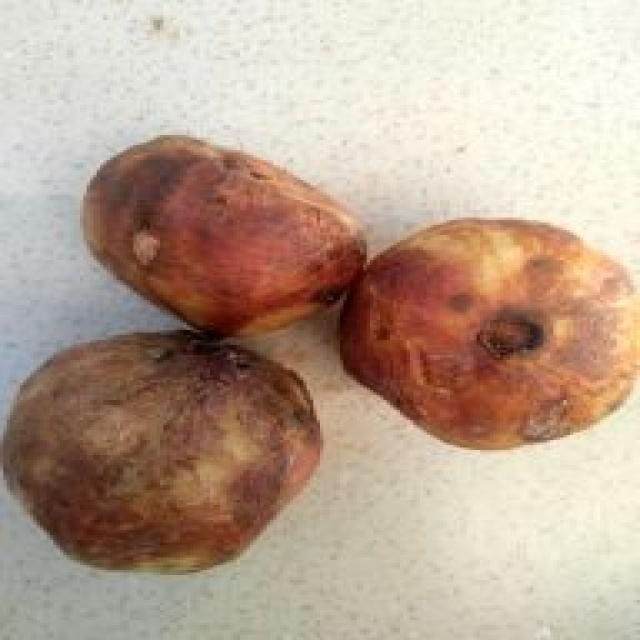Bad_Guava: (5, 331, 320, 571), (342, 219, 638, 448)
